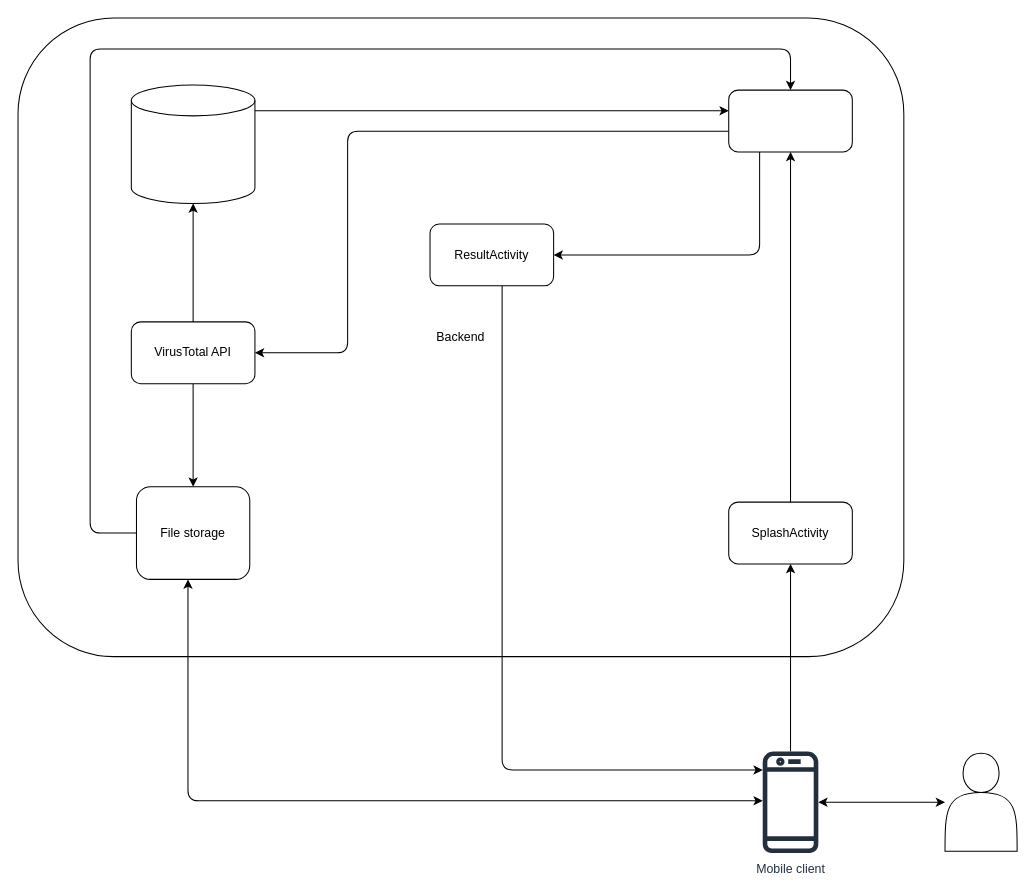
This 1035x895 diagram has some shape labels left out. Here are the shapes that lost their labels. From the top down, the centre of each, then its label:
At pixel 790 120: "MainActiviity".
At pixel 192 143: "Database".
At pixel 980 801: "User".
